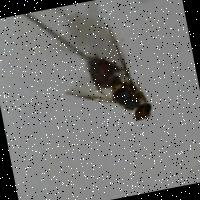Oriental-fruit-fly: (46, 15, 164, 146)
